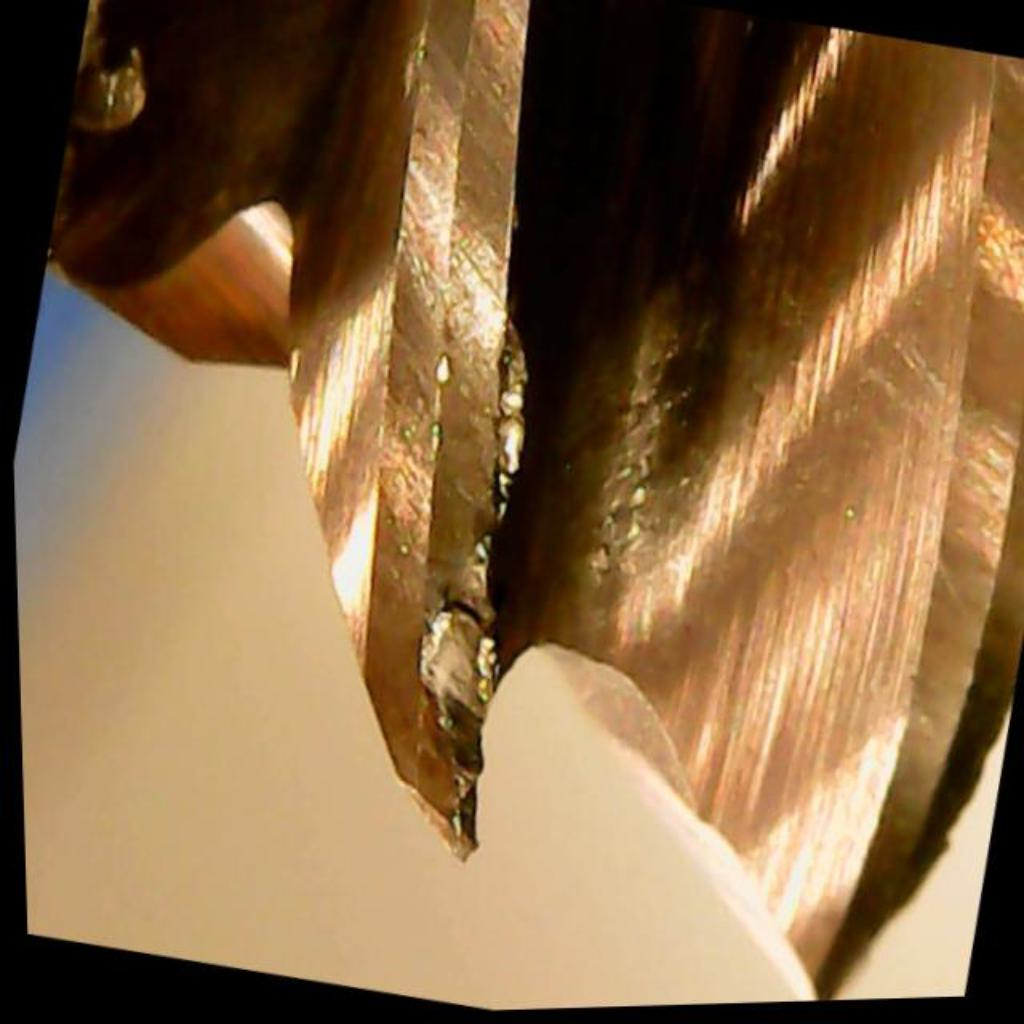Tool-wear-class-2: (276, 486, 559, 884)
